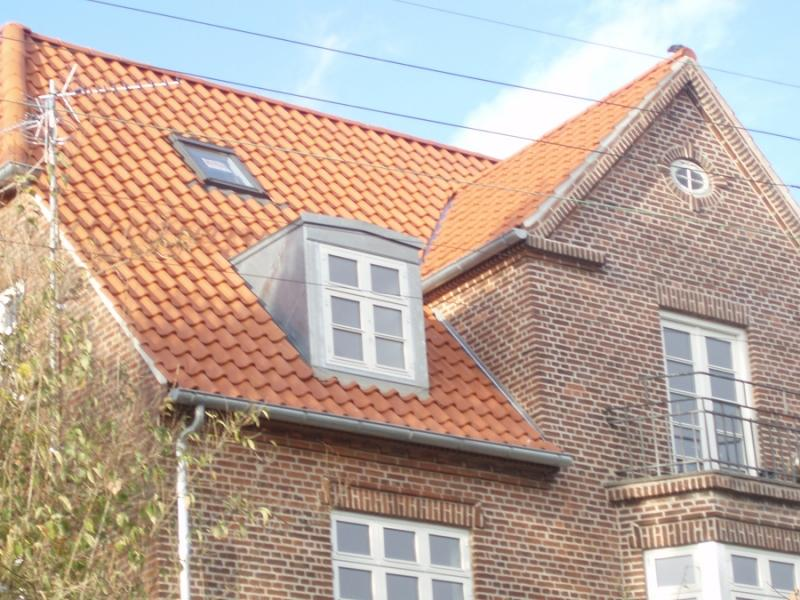kvist windows: (196, 199, 466, 418)
